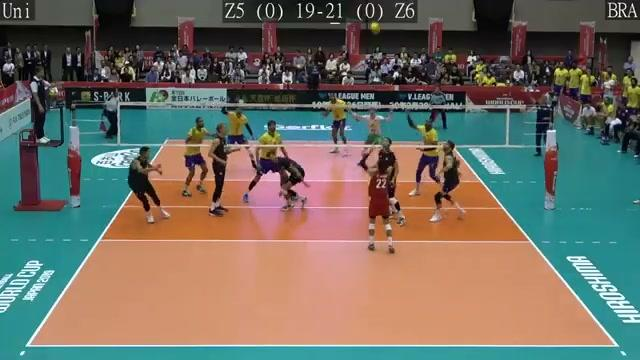ball: (369, 23, 380, 32)
